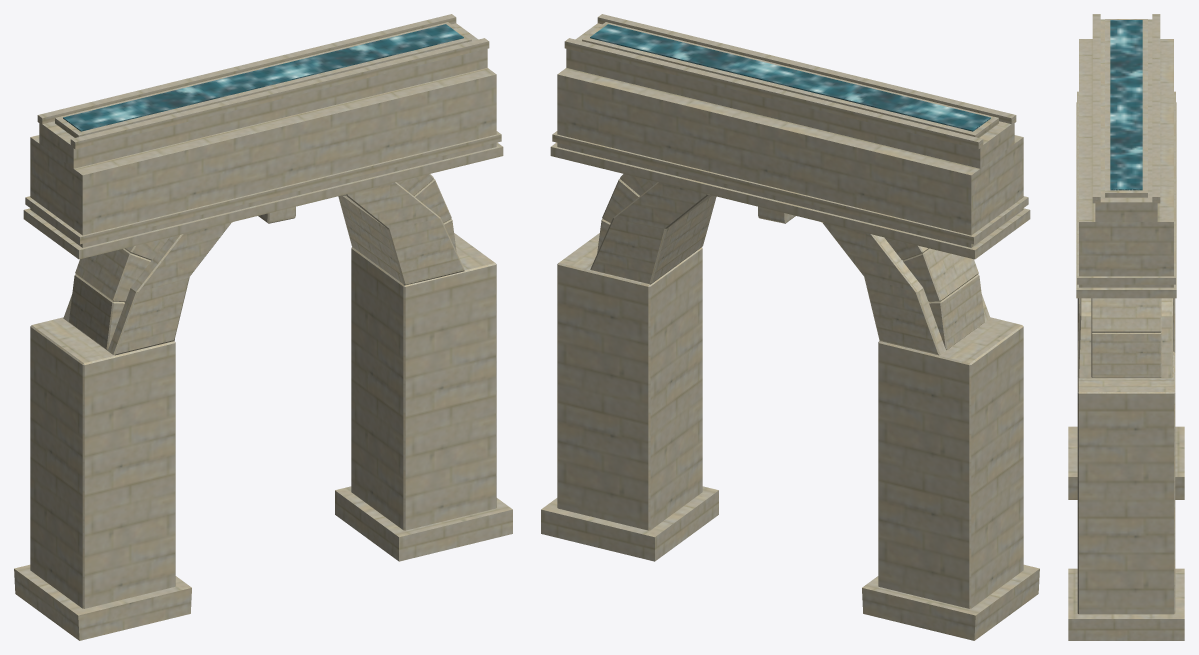
Rendered from Aqueduct.fbx.
3 renders of one model, left to right at view 1: azimuth 30°, elevation 25°; view 2: azimuth 150°, elevation 25°; view 3: azimuth 270°, elevation 25°, orthographic. The views are drawn at different scales.
Parts seen in each view (by area): view 1: Aqueduct; view 2: Aqueduct; view 3: Aqueduct.
Boxes of the visible parts, x1=… form: Aqueduct: x1=14, y1=14, x2=512, y2=640; Aqueduct: x1=541, y1=14, x2=1039, y2=640; Aqueduct: x1=1068, y1=14, x2=1184, y2=640.
Size of the model in its own units: 8.4 by 9 by 2.15.
